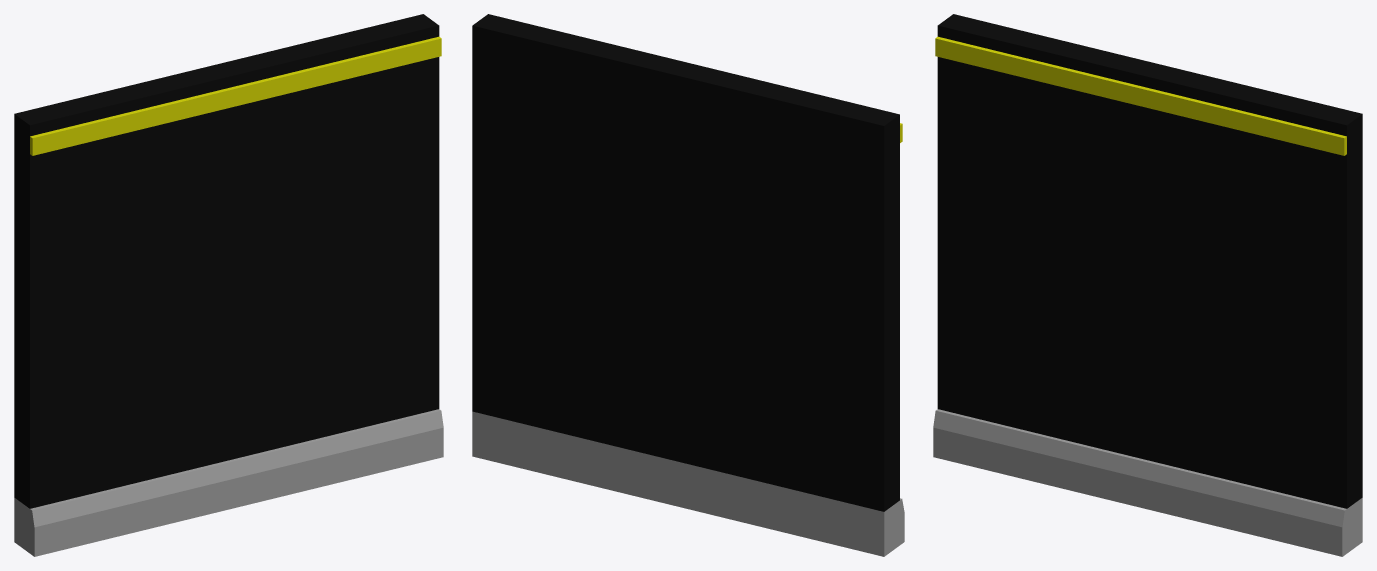
File: WW_wall_prop.fbx
3 views of the same model, side by side, from view 1: azimuth 30°, elevation 25°; view 2: azimuth 150°, elevation 25°; view 3: azimuth 330°, elevation 25° (orthographic).
Parts seen in each view (by area): view 1: WW_wall_duct_geo; view 2: WW_wall_duct_geo; view 3: WW_wall_duct_geo.
Boxes of the visible parts, bbox=[...] form: WW_wall_duct_geo: bbox=[14, 14, 443, 556]; WW_wall_duct_geo: bbox=[472, 14, 904, 556]; WW_wall_duct_geo: bbox=[933, 14, 1362, 556].
Size of the model in its own units: 300 by 300 by 25.76.
